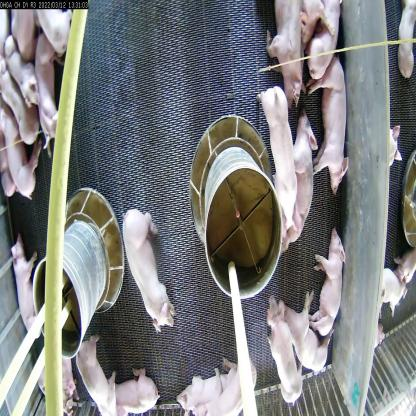Pig: (112, 184, 177, 340), (312, 47, 350, 188), (268, 80, 300, 247), (7, 232, 52, 350), (258, 1, 309, 100), (181, 354, 259, 416), (260, 302, 304, 406), (279, 302, 332, 385), (294, 124, 326, 239), (72, 327, 111, 413), (0, 113, 31, 207), (320, 228, 348, 332), (34, 30, 58, 145), (112, 367, 164, 415)
